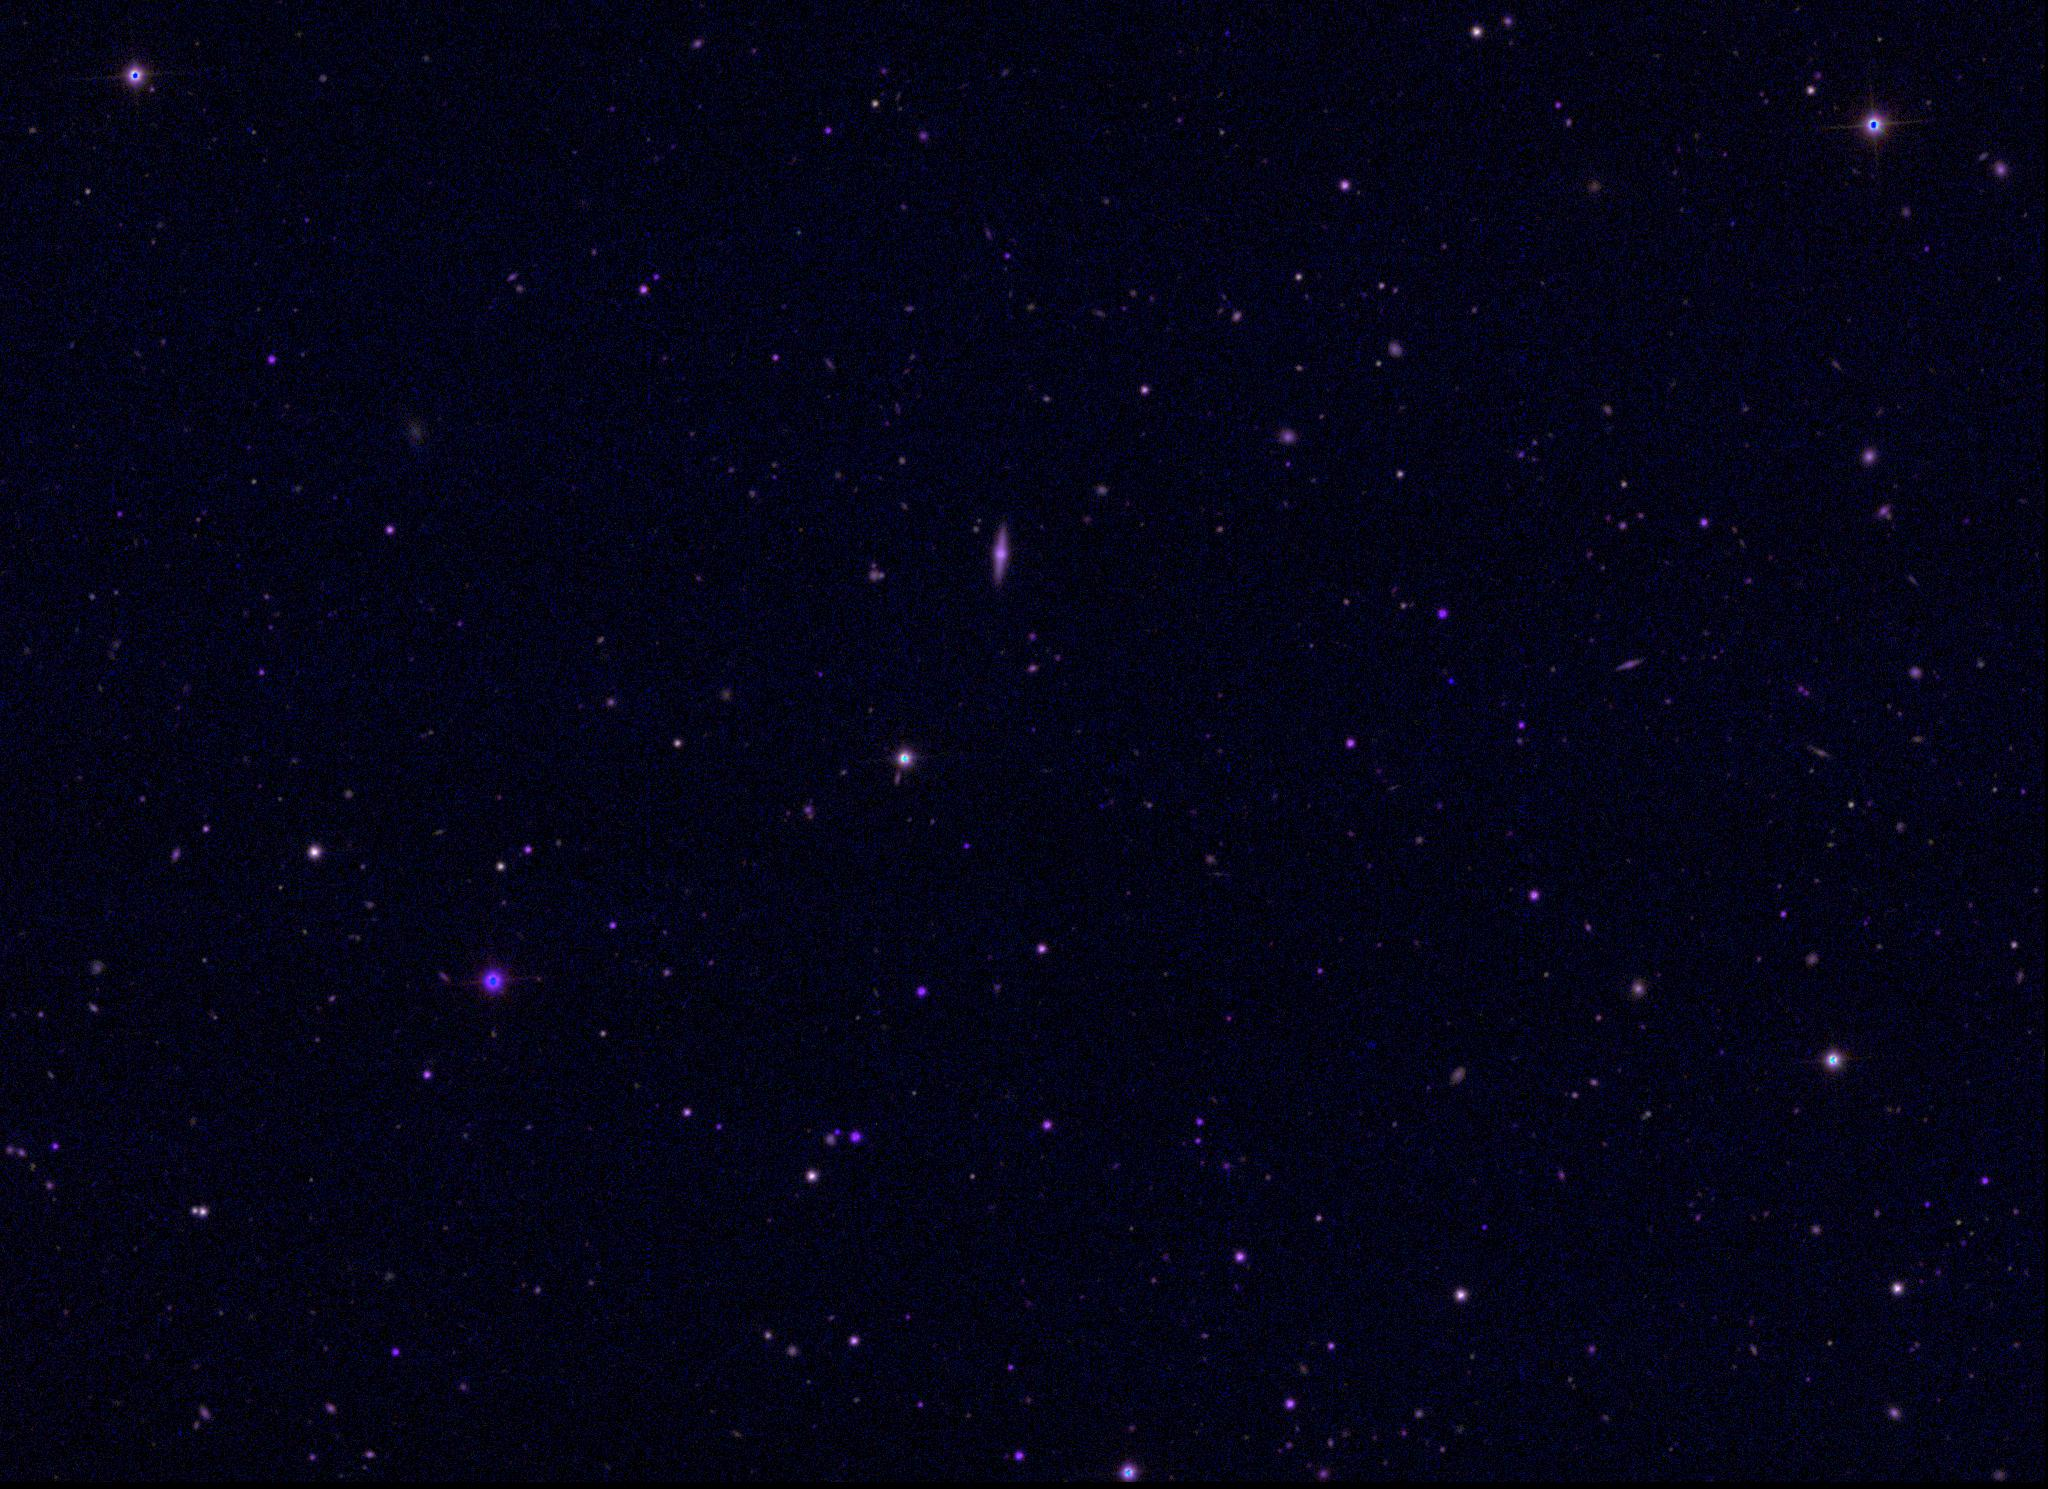L: (1444, 675, 1458, 687)
